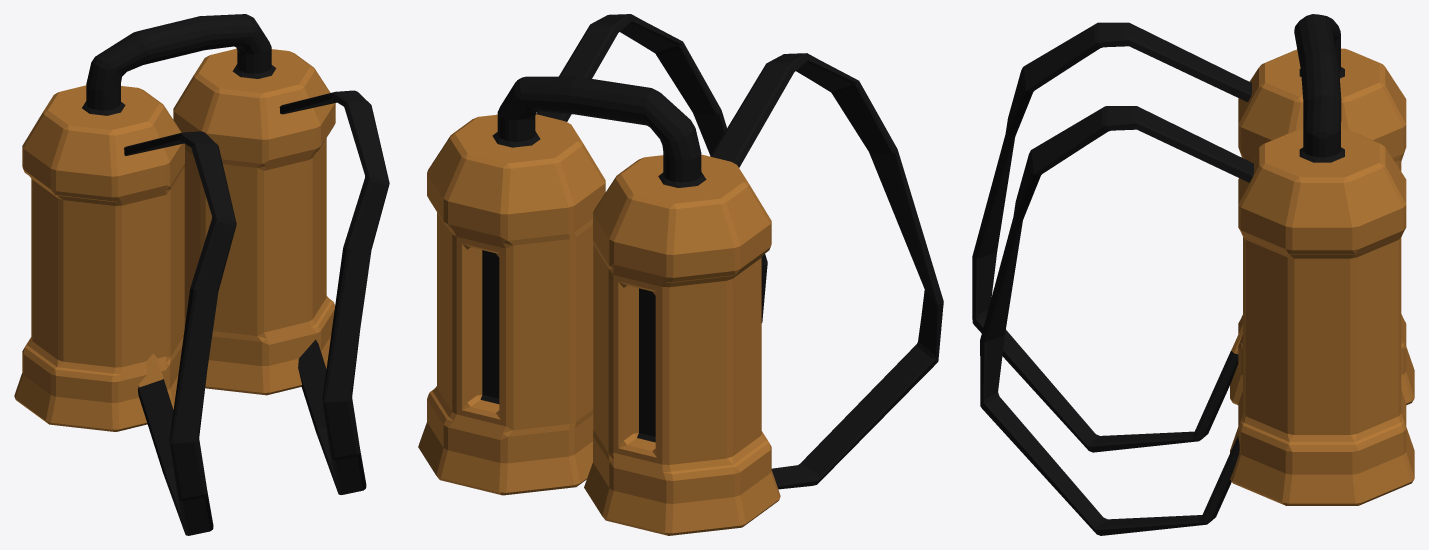
The model's file is rocket-belt.fbx.
The picture shows the model from 3 angles, left to right: view 1: azimuth 30°, elevation 25°; view 2: azimuth 150°, elevation 25°; view 3: azimuth 270°, elevation 25°; orthographic projection. The views are drawn at different scales.
Visible parts, largest first — view 1: Cube, Cube.001, Cube.002; view 2: Cube, Cube.001, Cube.002; view 3: Cube, Cube.002, Cube.001.
Boxes of the visible parts, x1,y1,x2,y2 form: Cube: (14, 14, 335, 431); Cube.001: (124, 131, 236, 535); Cube.002: (279, 90, 389, 494); Cube: (418, 76, 780, 535); Cube.001: (710, 53, 943, 489); Cube.002: (536, 14, 767, 322); Cube: (1230, 14, 1414, 505); Cube.002: (980, 106, 1253, 535); Cube.001: (972, 22, 1251, 452).
Bounding box in the file's own units: 247 × 320 × 280.
